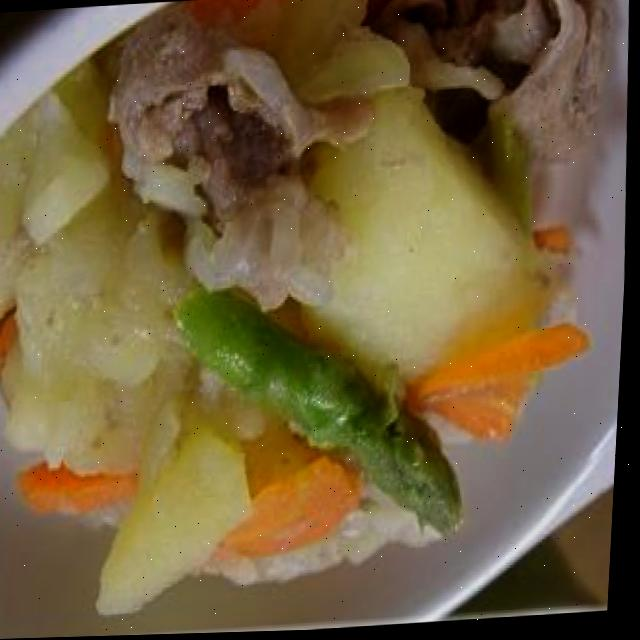牛肉菜式: (0, 0, 640, 637)
